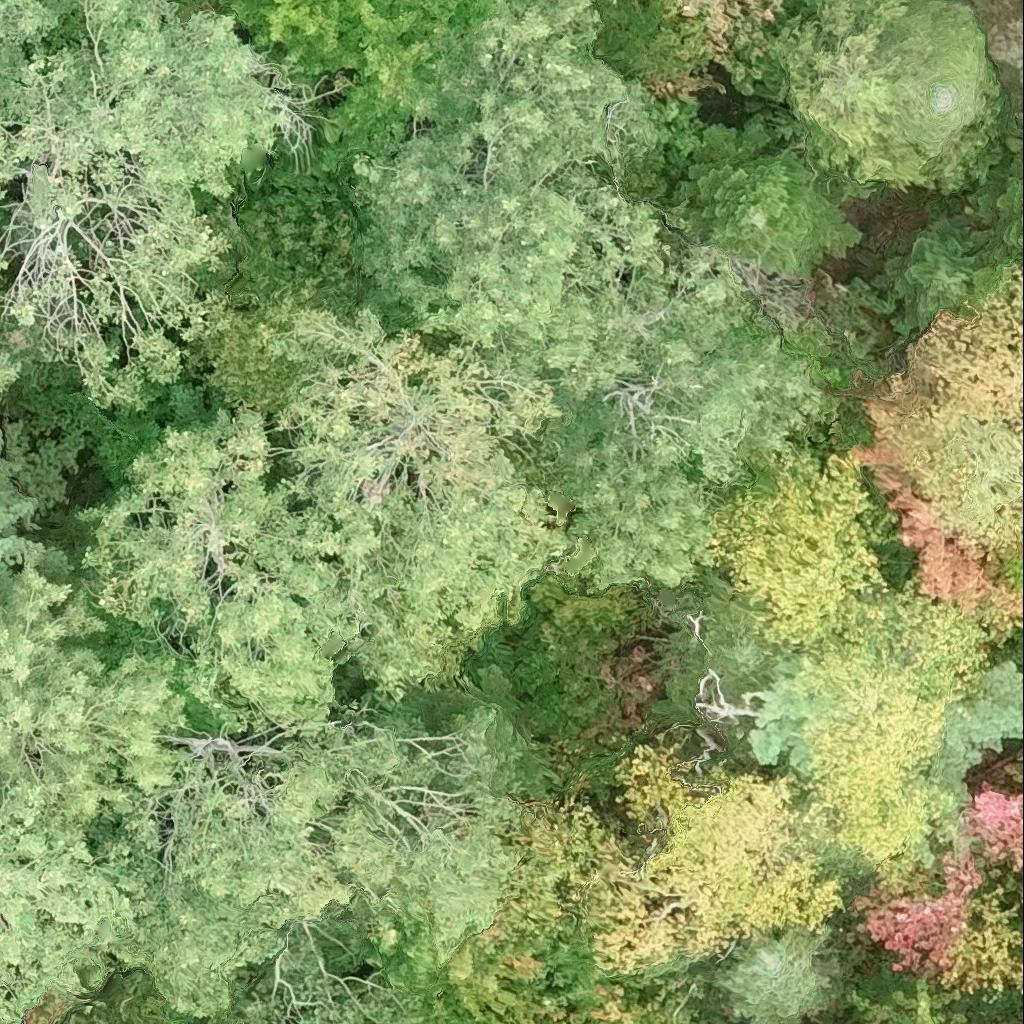crown: (151, 676, 547, 1023), (353, 0, 683, 403), (259, 312, 567, 693), (0, 0, 283, 411), (79, 406, 361, 733), (487, 743, 845, 978), (0, 562, 195, 910), (791, 581, 995, 816), (614, 256, 820, 483), (770, 0, 1007, 196), (701, 430, 902, 655), (0, 781, 163, 1023), (535, 385, 713, 595), (421, 913, 708, 1023), (672, 123, 862, 279), (319, 0, 474, 176), (884, 263, 1023, 426), (852, 838, 1002, 981), (885, 403, 1023, 553), (869, 0, 998, 154), (882, 489, 1023, 619), (715, 639, 841, 781), (794, 778, 948, 886), (217, 0, 376, 98), (662, 0, 821, 92), (0, 423, 84, 597), (870, 214, 987, 335), (936, 663, 1023, 804), (713, 928, 840, 1023), (953, 0, 1023, 153), (945, 137, 1023, 267), (840, 368, 918, 497), (940, 886, 1023, 1003), (848, 975, 963, 1023), (967, 784, 1023, 868), (0, 0, 61, 50), (994, 161, 1023, 261), (462, 0, 498, 27), (1004, 550, 1023, 597), (0, 348, 20, 389), (1017, 762, 1023, 780), (1021, 235, 1023, 242)
